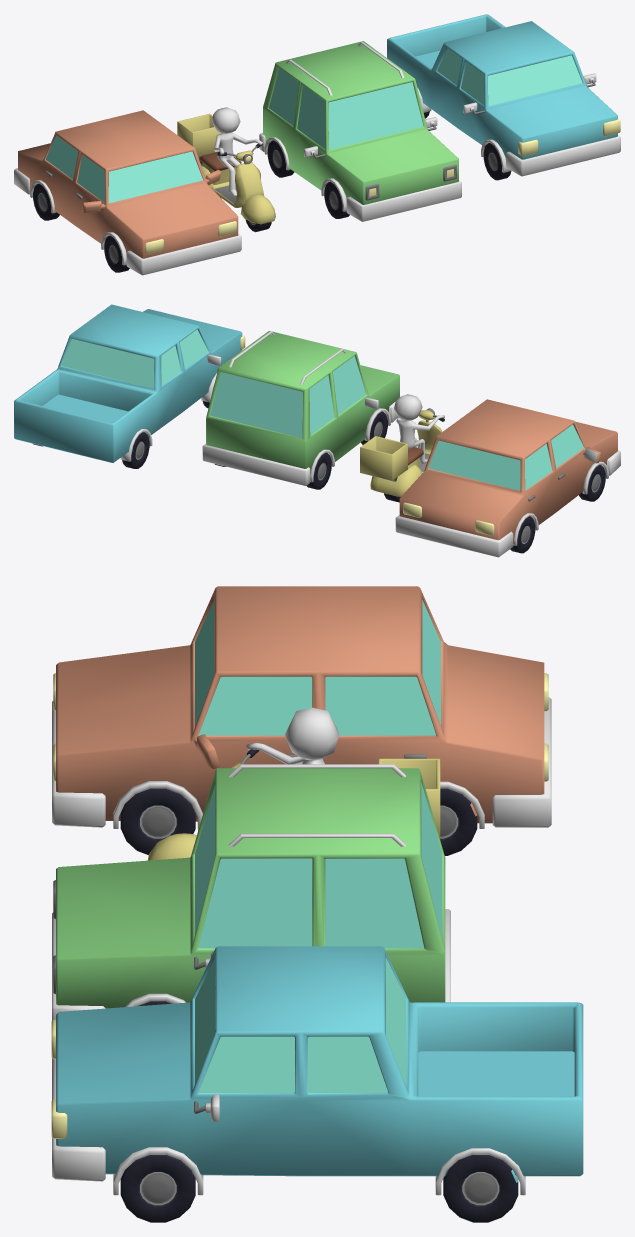
File: obj0512 car.fbx
The picture shows the model from 3 angles, top to bottom: view 1: azimuth 30°, elevation 25°; view 2: azimuth 150°, elevation 25°; view 3: azimuth 270°, elevation 25°; orthographic projection. The views are drawn at different scales.
Parts seen in each view (by area): view 1: car 2, car 3, car 1, scooter, man; view 2: car 1, car 3, car 2, scooter, man; view 3: car 3, car 1, car 2, man, scooter.
Part boxes in pixels (<box>): car 2: <box>259,41,461,221</box>; car 3: <box>387,14,620,180</box>; car 1: <box>14,110,241,275</box>; scooter: <box>177,113,275,232</box>; man: <box>211,107,262,196</box>; car 1: <box>395,399,620,557</box>; car 3: <box>14,304,245,468</box>; car 2: <box>202,331,399,489</box>; scooter: <box>360,408,444,502</box>; man: <box>394,394,444,463</box>; car 3: <box>51,946,583,1222</box>; car 1: <box>52,586,551,855</box>; car 2: <box>52,764,450,1020</box>; man: <box>246,707,339,764</box>; scooter: <box>147,749,440,860</box>.
Size of the model in its own units: 20.58 by 4.24 by 9.31.
